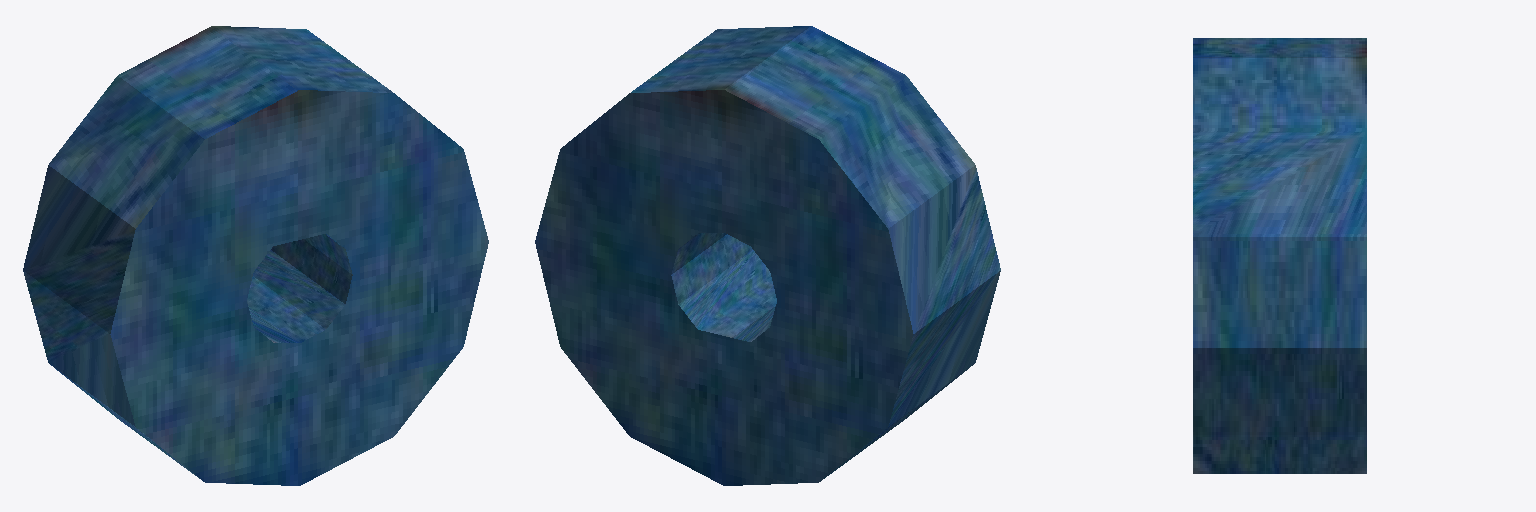
The picture shows the model from 3 angles: view 1: azimuth 30°, elevation 25°; view 2: azimuth 150°, elevation 25°; view 3: azimuth 270°, elevation 25°; orthographic projection.
Visible parts, largest first — view 1: Layer_Model_Front; view 2: Layer_Model_Front; view 3: Layer_Model_Front.
Boxes of the visible parts, <box> form: Layer_Model_Front: <box>23,26,488,485</box>; Layer_Model_Front: <box>535,26,1000,485</box>; Layer_Model_Front: <box>1193,38,1366,473</box>.
Size of the model in its own units: 2.61 by 2.61 by 1.04.
Materials: 1 (1 with a texture image).